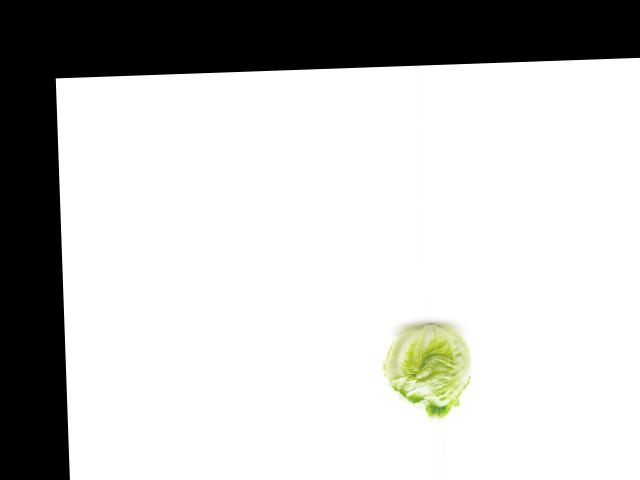lettuce: (373, 318, 476, 421)
